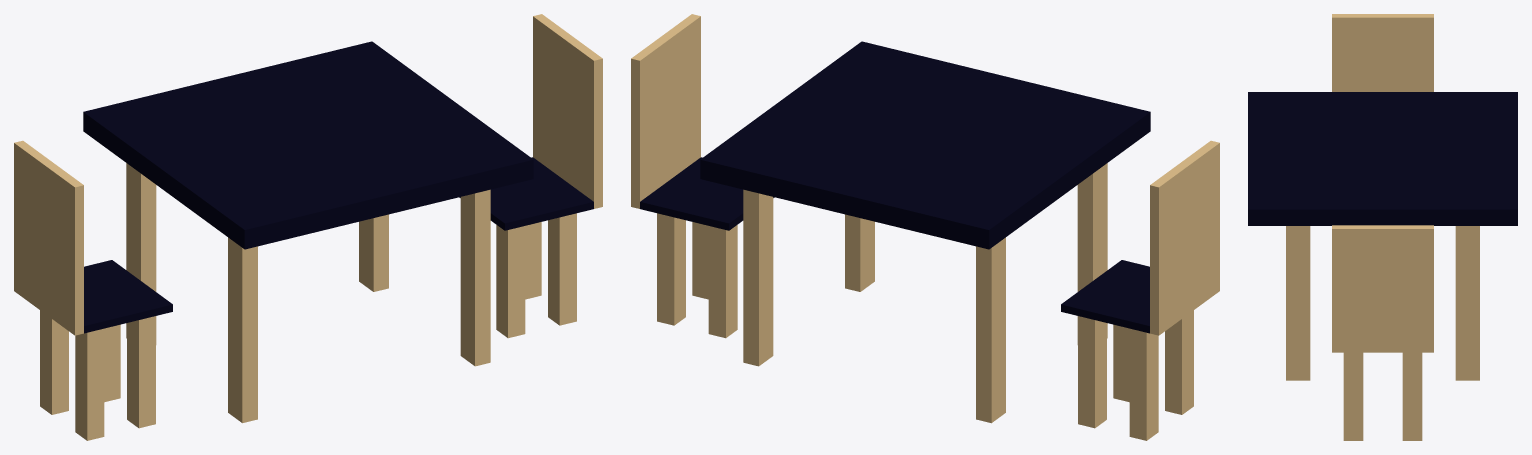
Rendered from Chair.fbx.
3 renders of one model, left to right at view 1: azimuth 30°, elevation 25°; view 2: azimuth 150°, elevation 25°; view 3: azimuth 270°, elevation 25°, orthographic. The views are drawn at different scales.
Parts seen in each view (by area): view 1: Cube; view 2: Cube; view 3: Cube.
Boxes of the visible parts, <box> form: Cube: <box>14,14,602,440</box>; Cube: <box>631,14,1219,440</box>; Cube: <box>1248,14,1517,440</box>.
Bounding box in the file's own units: 1492 × 711 × 791.
